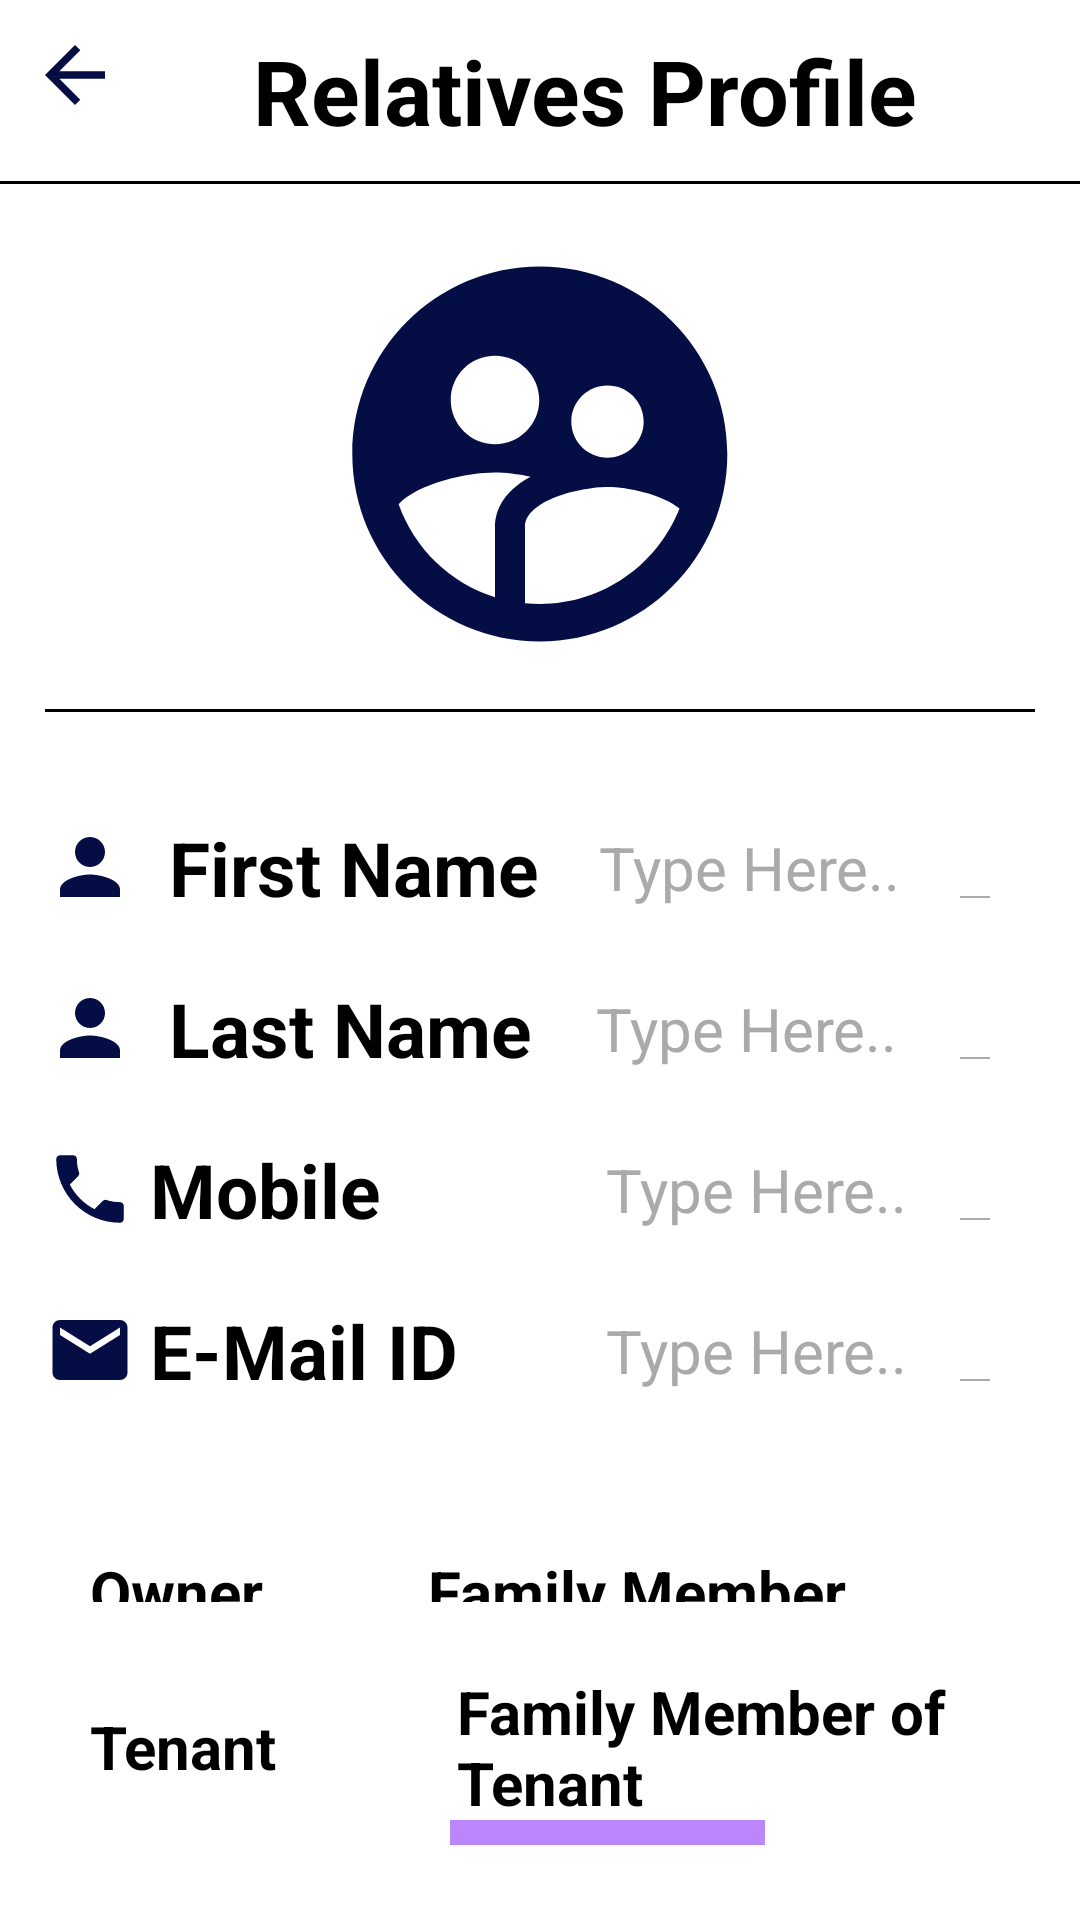

Icon click points for this 1080 x 1920 phone screenshot, format (x,y):
arrow back: (75,75)
person: (90,867), (90,1028)
phone: (90,1189)
